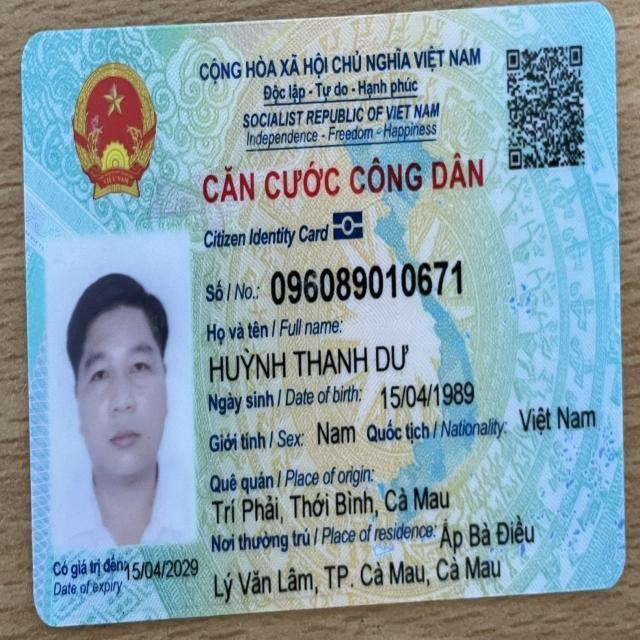current_place: (205, 554, 508, 600), (436, 512, 538, 552)
dob: (369, 381, 479, 409)
expire_date: (123, 551, 201, 583)
gender: (312, 414, 359, 452)
id: (263, 257, 482, 307)
name: (203, 341, 418, 384)
nationality: (512, 399, 603, 437)
origin_place: (207, 488, 456, 526)
